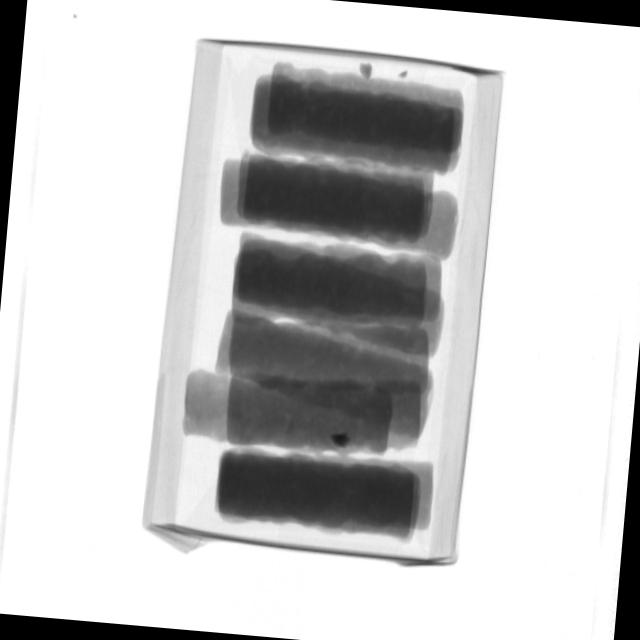ym: (359, 60, 374, 82), (332, 430, 352, 446), (400, 72, 410, 80)
